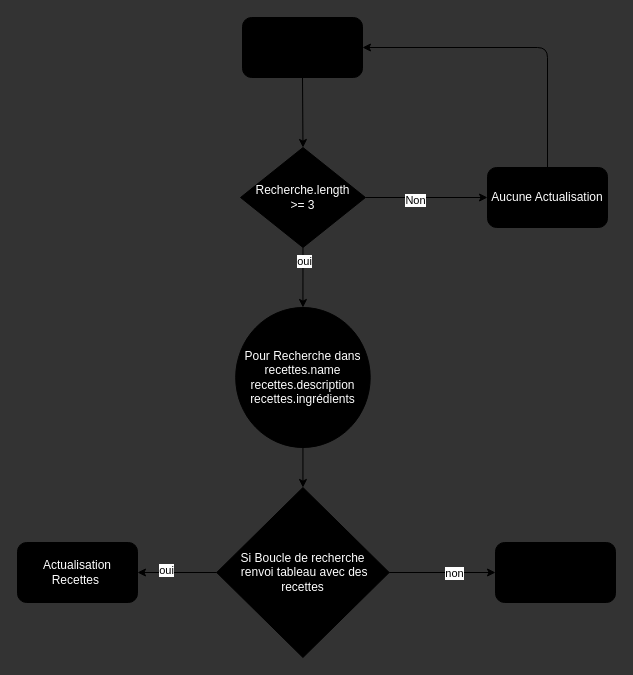
This 633x675 diagram has some shape labels left out. The shapes that lost their labels are listed below. From the top down, each one's box as (x1, y1, x2, y2) in pixels, then its label:
(242, 16, 362, 78): User recherche une recette
(494, 542, 616, 602): Actualisation Message erreur
